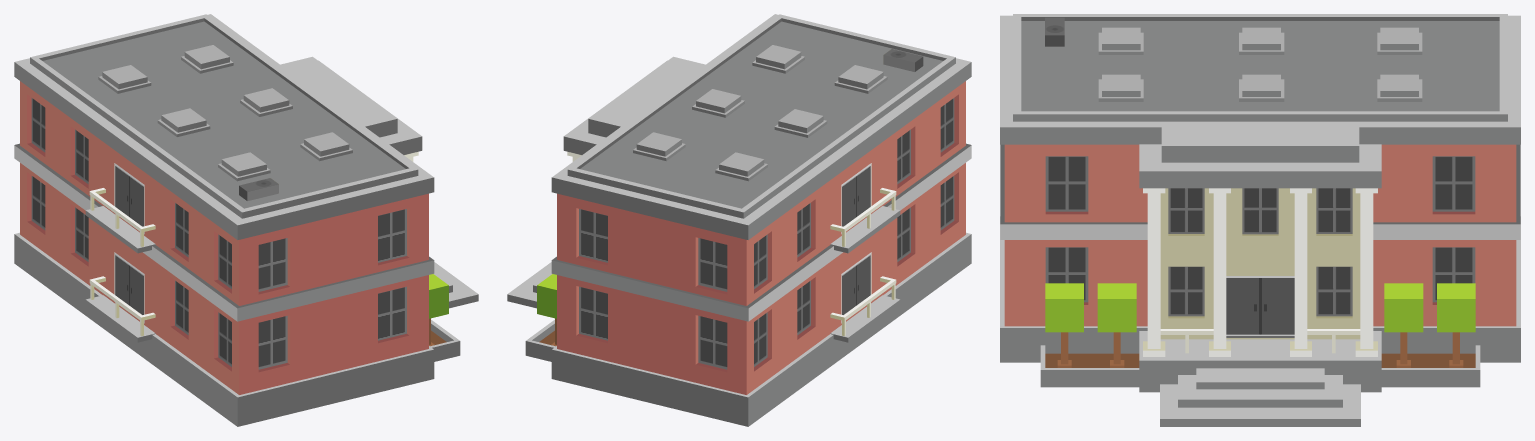
The model's file is TownHall.glb.
The picture shows the model from 3 angles, left to right: view 1: azimuth 30°, elevation 25°; view 2: azimuth 150°, elevation 25°; view 3: azimuth 270°, elevation 25°; orthographic projection. The views are drawn at different scales.
Parts seen in each view (by area): view 1: town_hall_mesh; view 2: town_hall_mesh; view 3: town_hall_mesh.
Boxes of the visible parts, x1,y1,x2,y2 form: town_hall_mesh: (14,14,478,426); town_hall_mesh: (507,14,971,426); town_hall_mesh: (1000,14,1520,426).
Bounding box in the file's own units: 0.2347 × 0.1481 × 0.28.
Materials: 1 (1 with a texture image).
